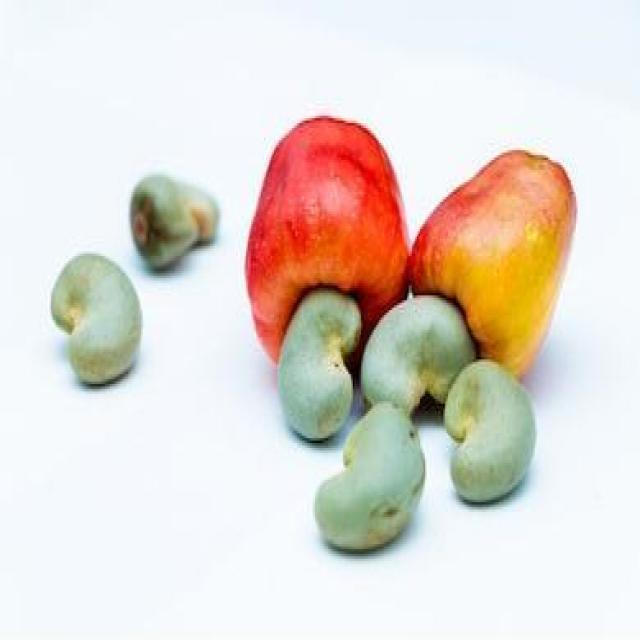Cashew: (455, 352, 551, 558), (61, 245, 170, 405), (318, 406, 417, 566), (124, 147, 235, 245), (283, 291, 349, 439), (375, 293, 463, 376)
